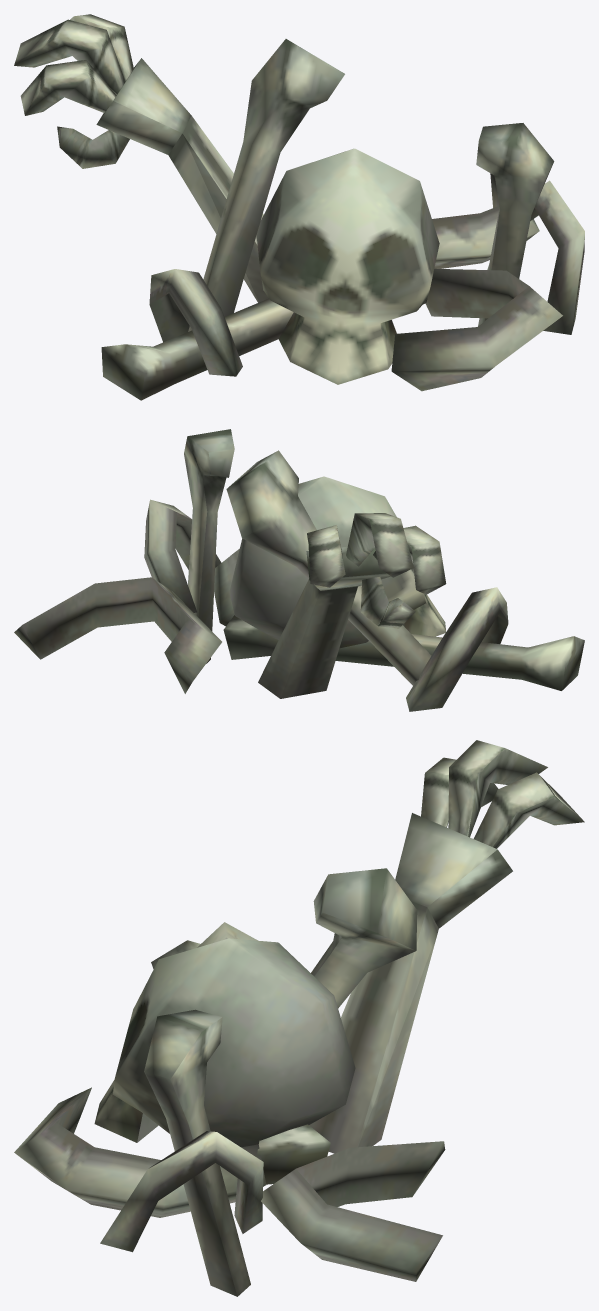
File: crypt_bones01.fbx
3 views of the same model, one above another, from view 1: azimuth 30°, elevation 25°; view 2: azimuth 150°, elevation 25°; view 3: azimuth 270°, elevation 25° (orthographic). The views are drawn at different scales.
Parts seen in each view (by area): view 1: miscellaneous; view 2: miscellaneous; view 3: miscellaneous.
Boxes of the visible parts, x1,y1,x2,y2 form: miscellaneous: (14, 14, 584, 400); miscellaneous: (14, 429, 584, 711); miscellaneous: (14, 740, 584, 1296).
Size of the model in its own units: 1.22 by 0.7402 by 1.03.
